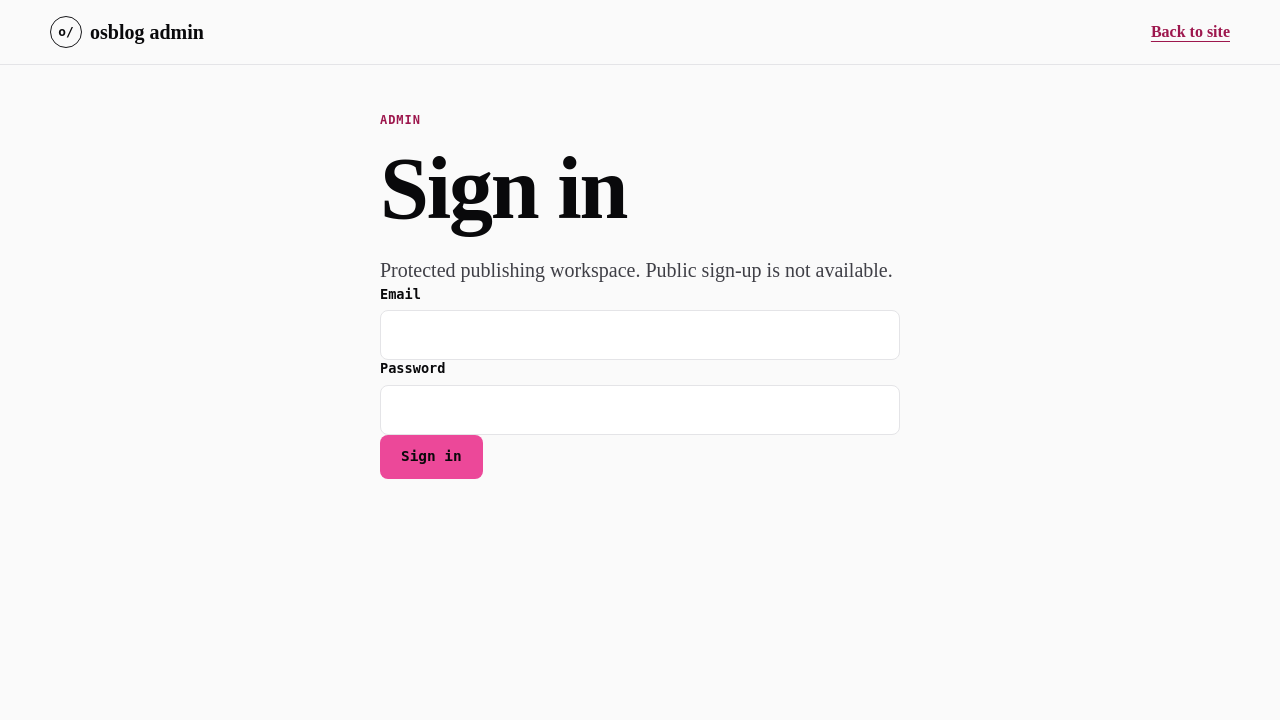
Test case: admin login › shows a clear error and keeps the form on invalid credentials
Type "admin@example.test" into the field labelled "Email" at x=640, y=335, box x1=380 y1=310 x2=900 y2=360
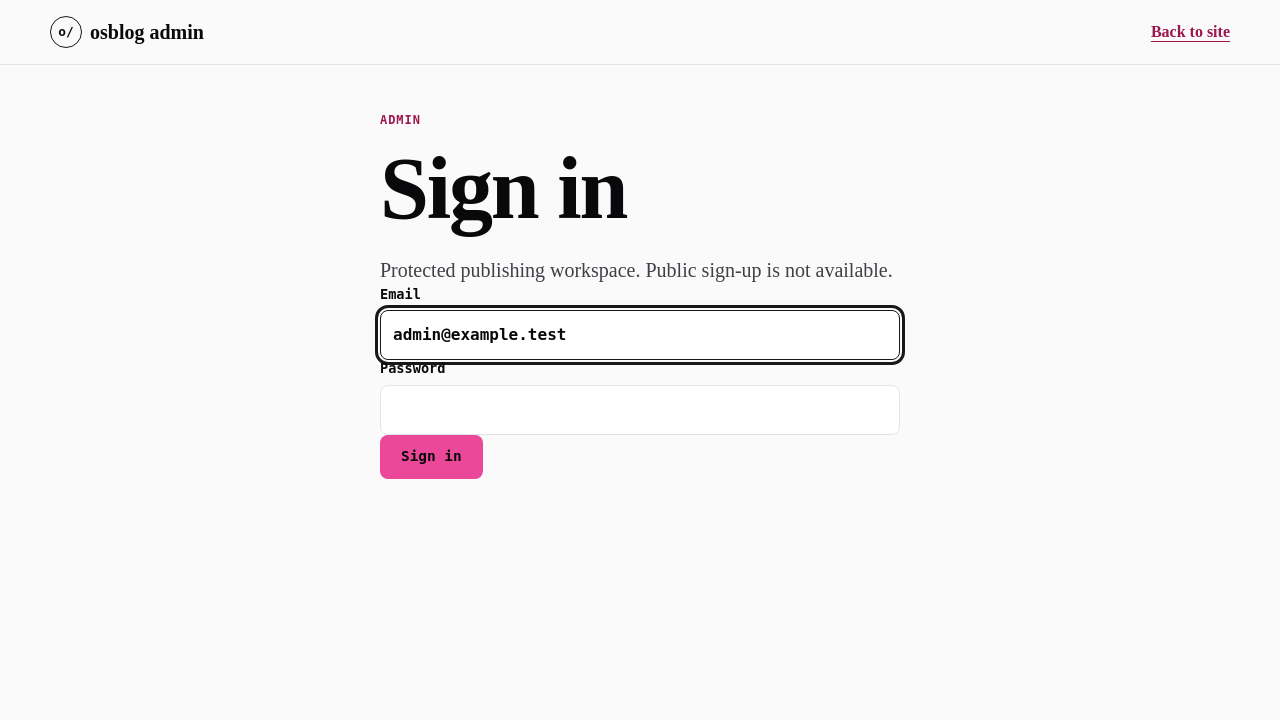
Type "wrong-password" into the password field labelled "Password" at x=640, y=410, box x1=380 y1=385 x2=900 y2=435
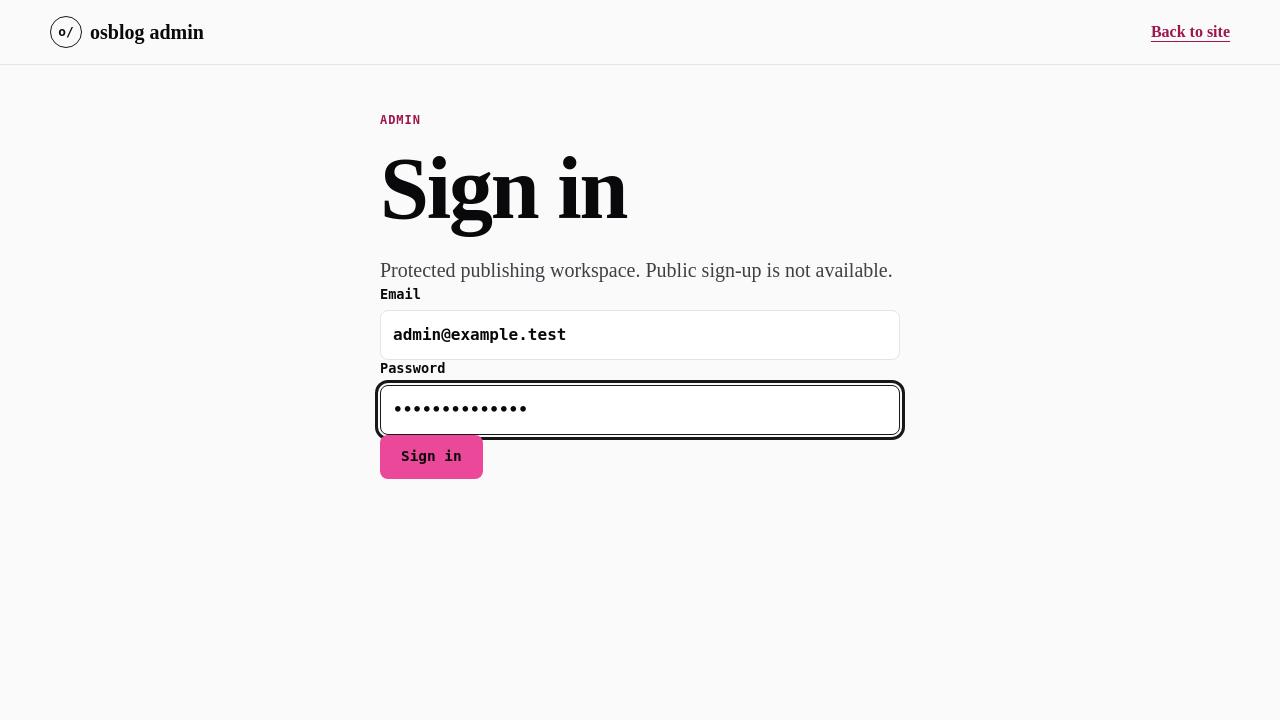
Click the button "Sign in" at x=431, y=457, box x1=380 y1=435 x2=483 y2=479
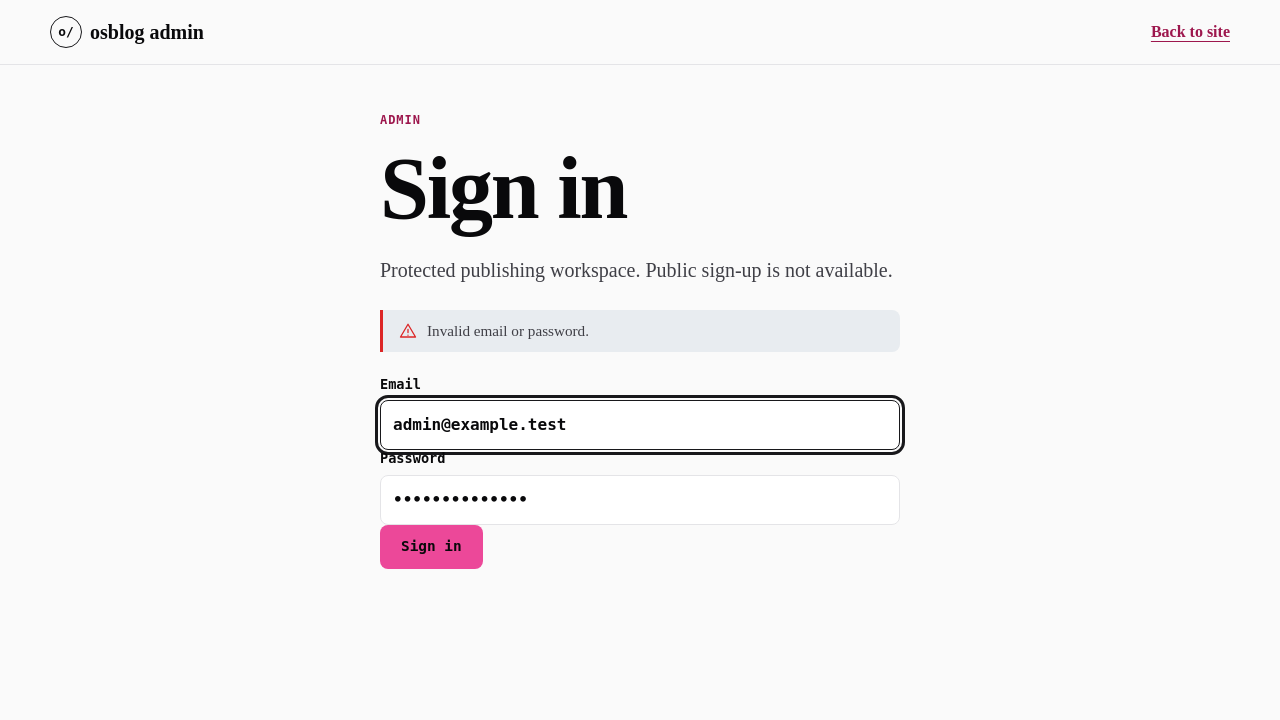
Now the message shows "Invalid email or password", box x1=427 y1=322 x2=589 y2=339
